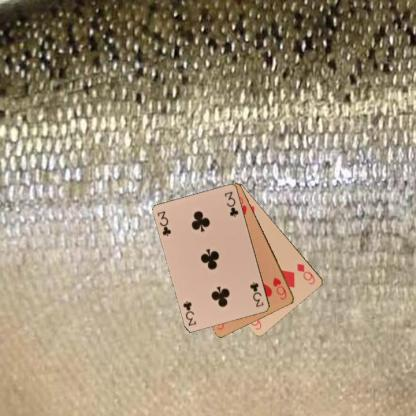3c: (155, 208, 173, 238), (247, 280, 265, 309)
6d: (294, 261, 316, 286)
6h: (270, 274, 288, 301)
